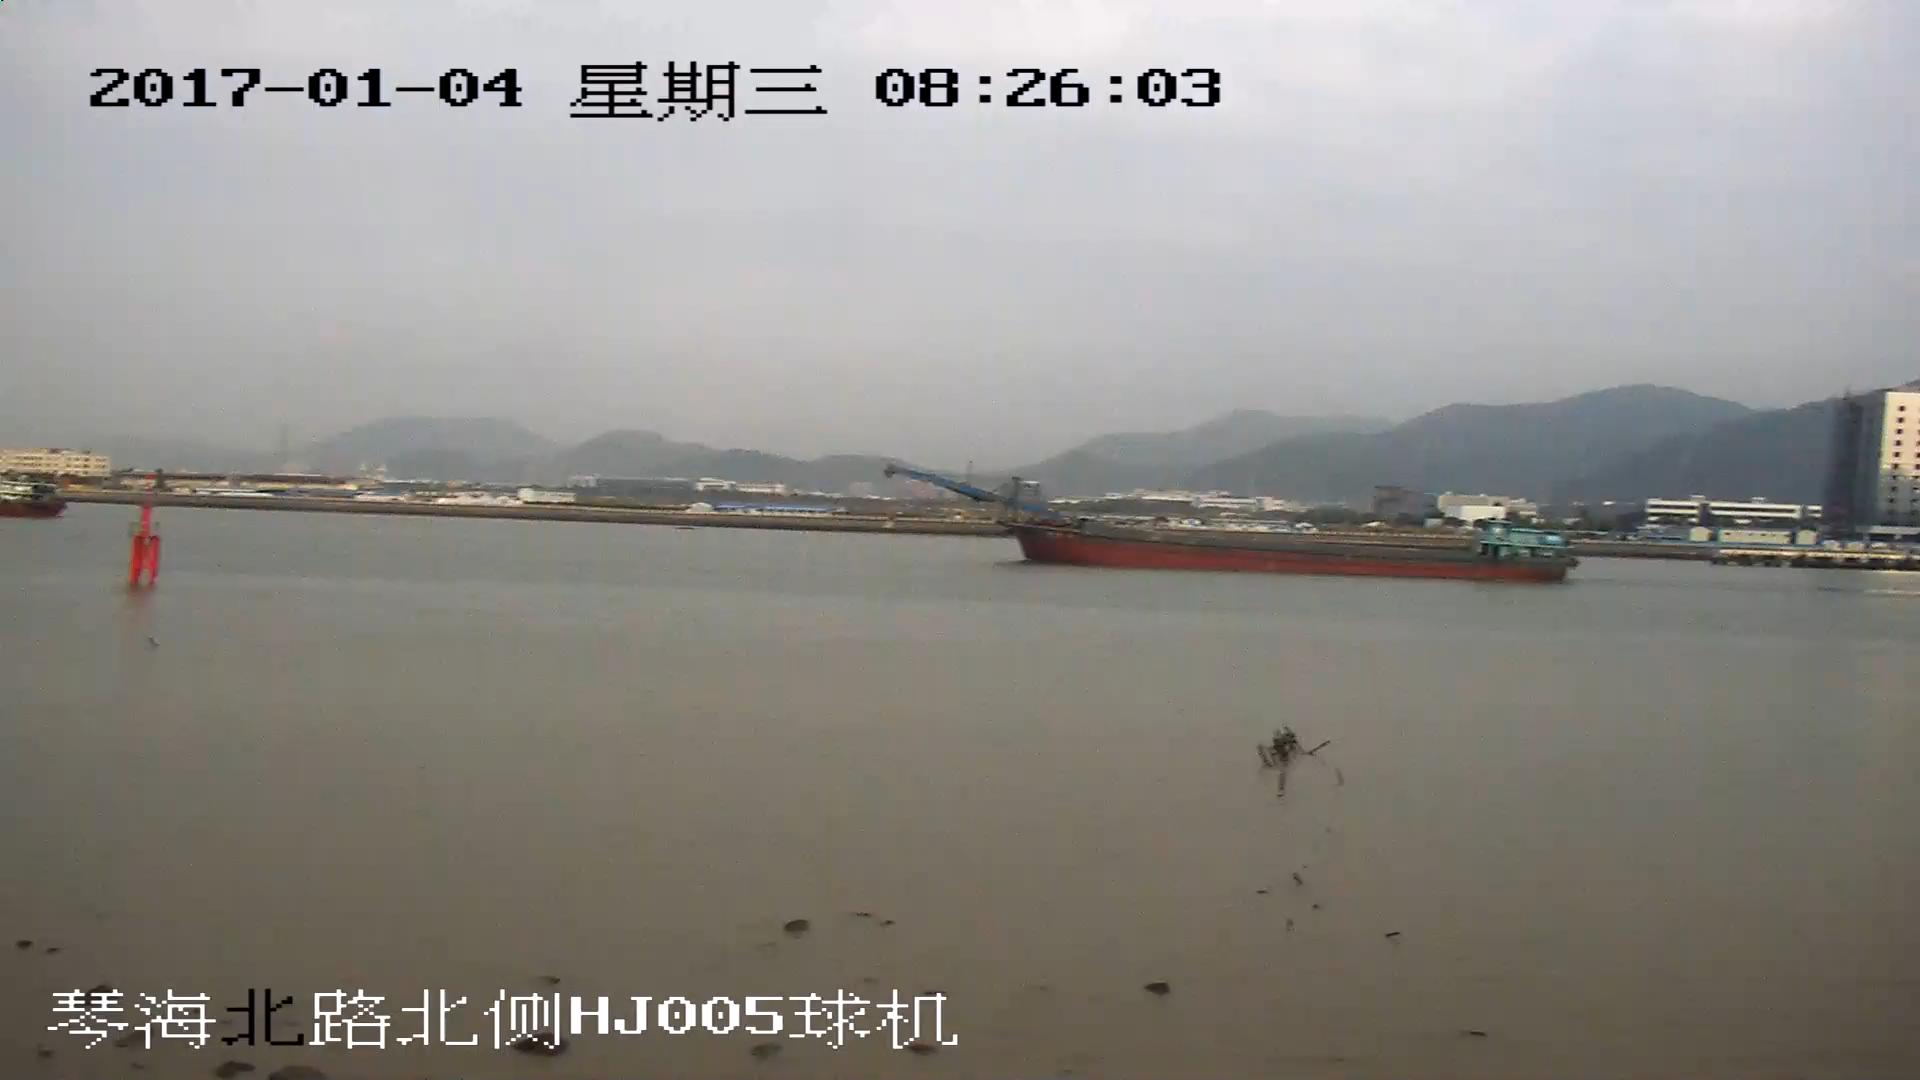bulk cargo carrier: (891, 468, 1569, 582)
